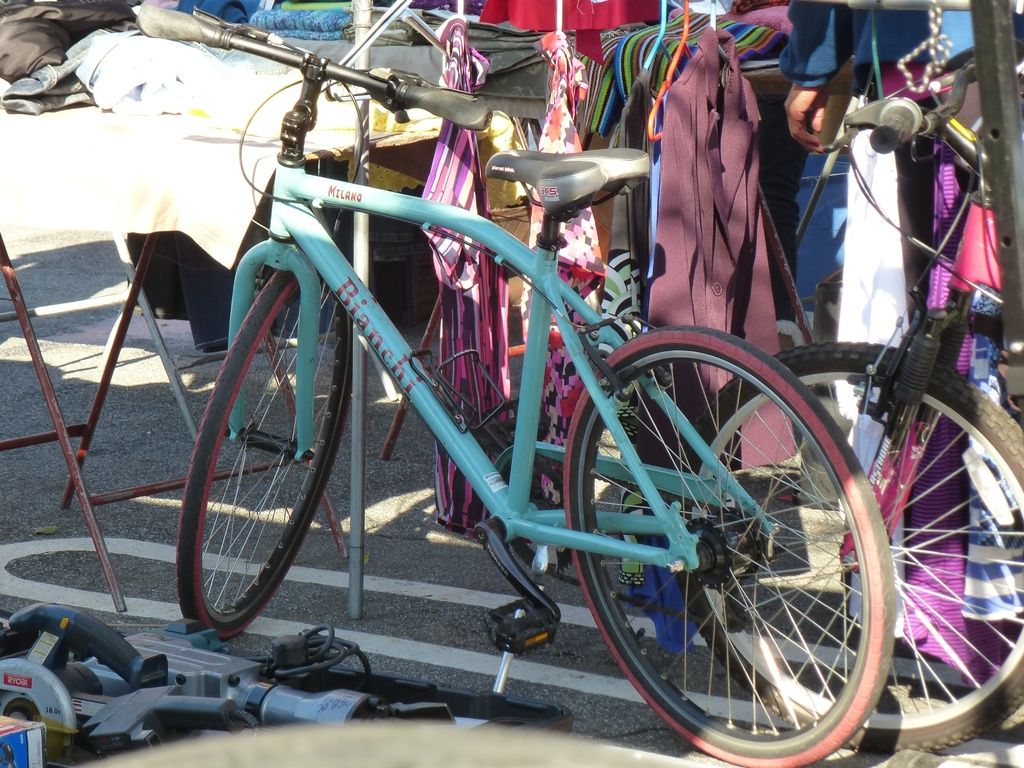Bike: (116, 114, 866, 742)
